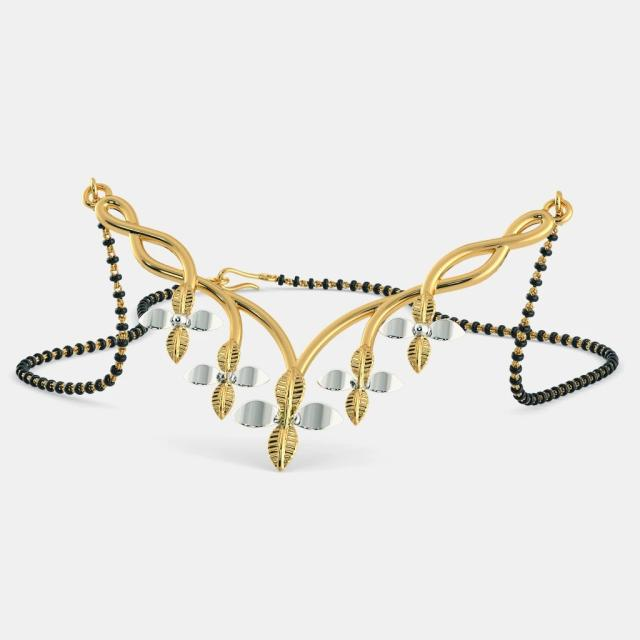missing gem: (276, 411, 298, 428), (216, 370, 235, 385), (350, 374, 366, 390)
